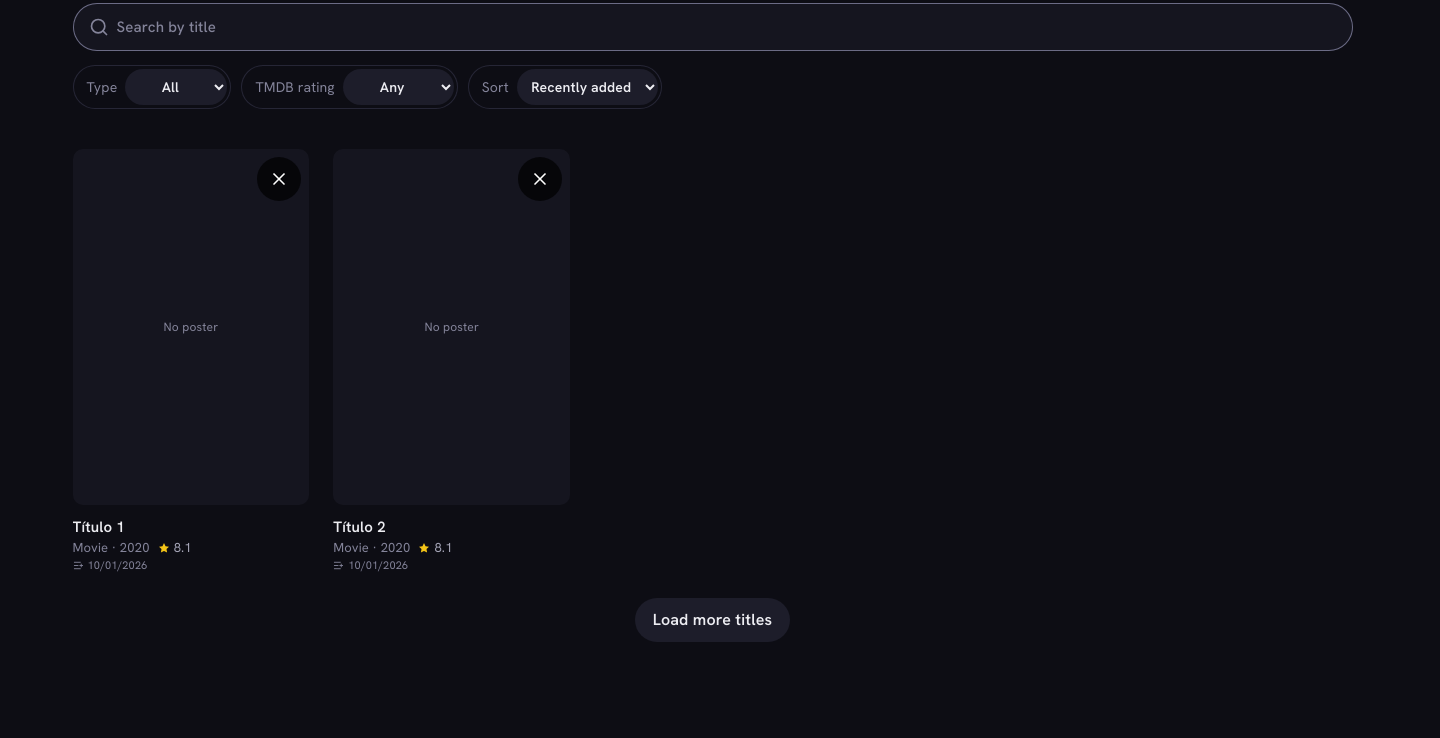
Detalle de una lista › carga la página siguiente por cursor con «Load more» y no repite ítems
(page scrolled)
Expected: the link "No poster Título 1 Movie · 2020 8.1 10/01/2026" is shown, x1=72 y1=149 x2=309 y2=574
What coordinates should you click on to do the following:
click the button "Load more titles"
I would click on:
 (712, 620)
Its box is x1=635 y1=598 x2=790 y2=642.
(page scrolled)
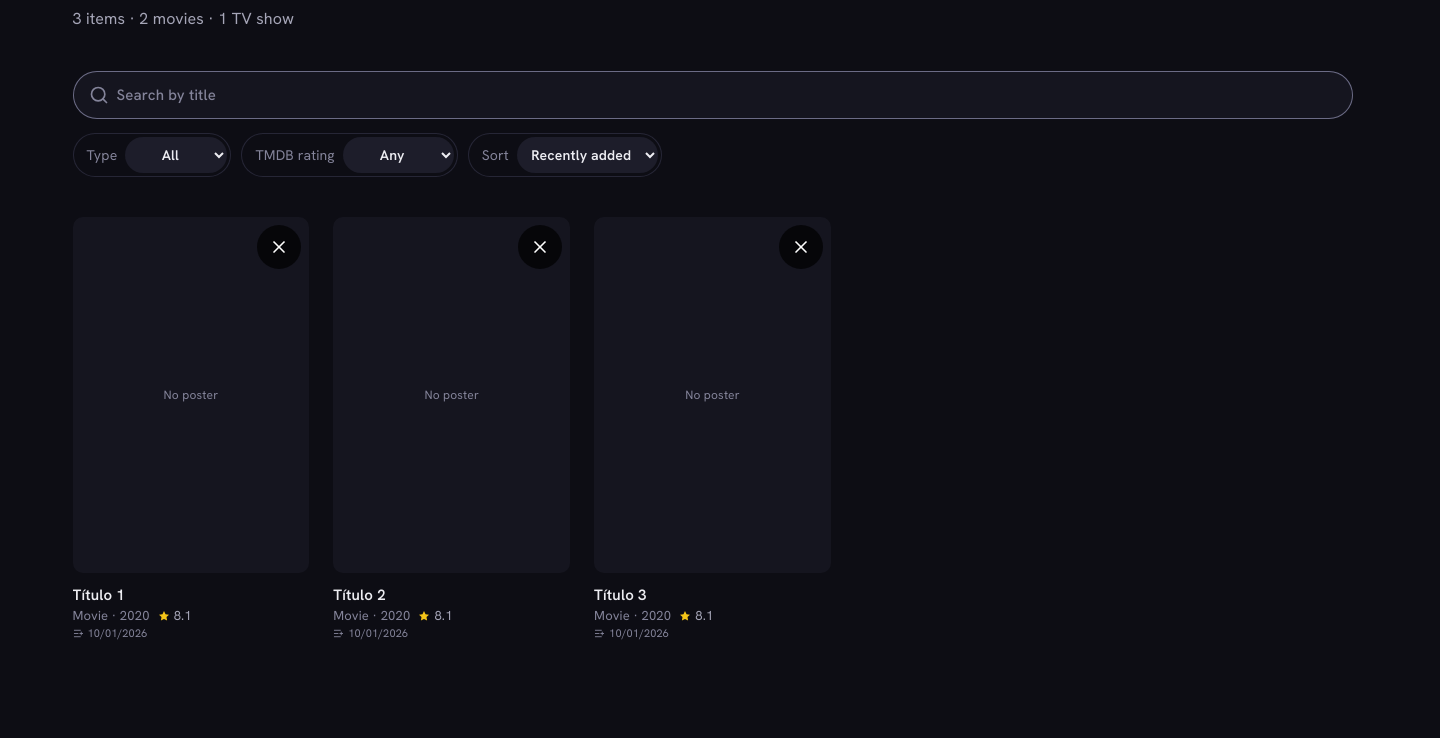
Expected: the link "No poster Título 3 Movie · 2020 8.1 10/01/2026" is shown, x1=594 y1=217 x2=831 y2=642
Expected: the number of links "No poster Título 2 Movie · 2020 8.1 10/01/2026" is 1, x1=333 y1=217 x2=570 y2=642
Expected: the button "Load more titles" is gone
